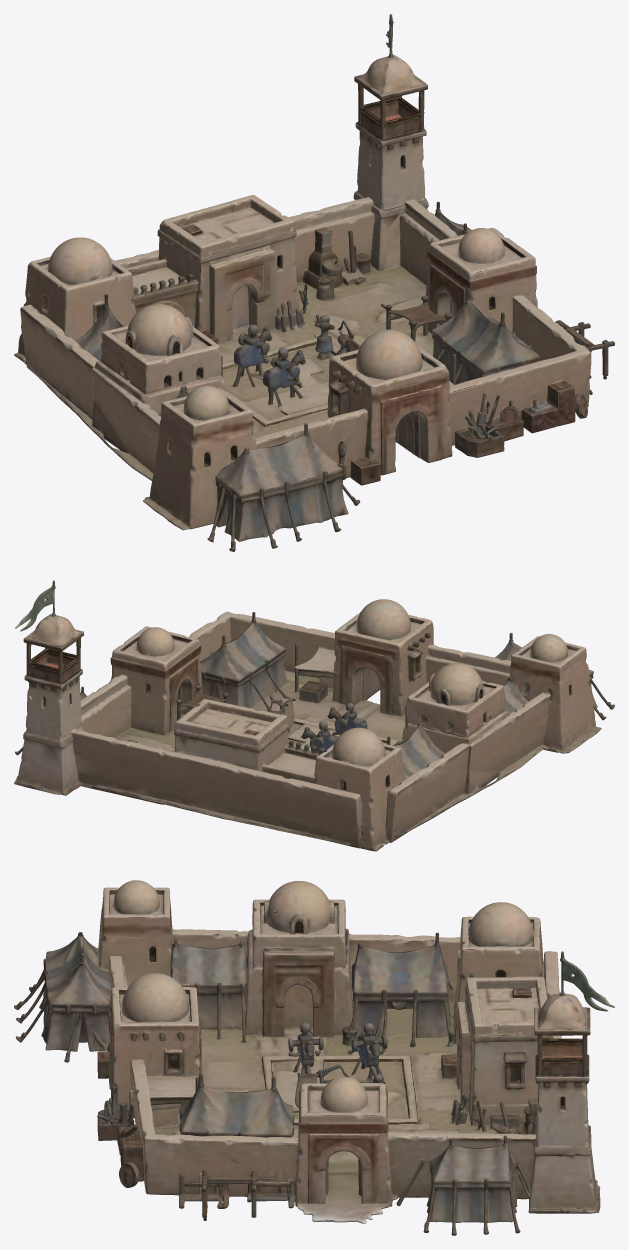
File: fortress.glb
The picture shows the model from 3 angles, top to bottom: view 1: azimuth 30°, elevation 25°; view 2: azimuth 150°, elevation 25°; view 3: azimuth 270°, elevation 25°; orthographic projection. The views are drawn at different scales.
Visible parts, largest first — view 1: tripo_node_bb378681-bb32-42c6-b1b7-eb50f7d116cd; view 2: tripo_node_bb378681-bb32-42c6-b1b7-eb50f7d116cd; view 3: tripo_node_bb378681-bb32-42c6-b1b7-eb50f7d116cd.
Boxes of the visible parts, box(x1,y1,x2,y2) form: tripo_node_bb378681-bb32-42c6-b1b7-eb50f7d116cd: box(14, 14, 614, 551); tripo_node_bb378681-bb32-42c6-b1b7-eb50f7d116cd: box(14, 580, 614, 851); tripo_node_bb378681-bb32-42c6-b1b7-eb50f7d116cd: box(14, 880, 614, 1235).
Bounding box in the file's own units: 1 × 0.4615 × 0.9965.
1 material, 1 textured.
